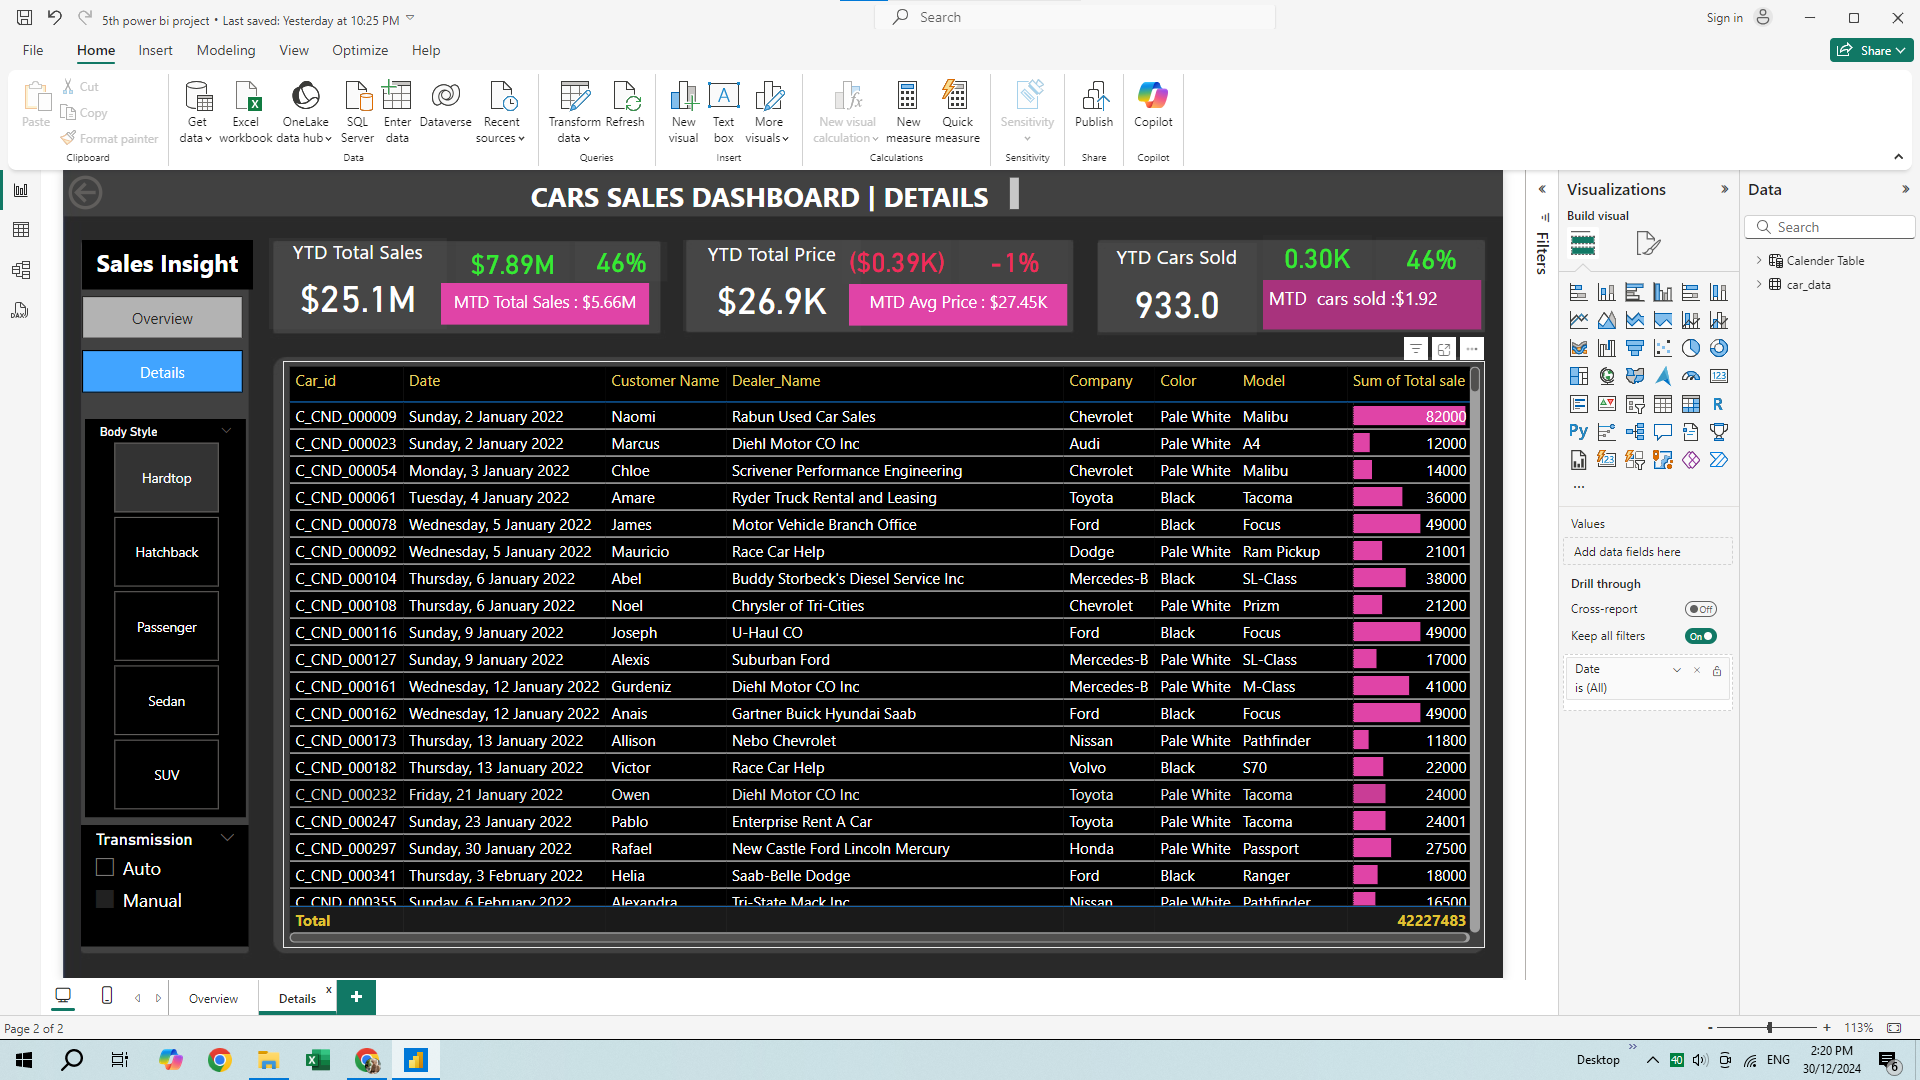

The dashboard page shown, as its layout file describes it:
{"tool":"powerbi","page":{"name":"Details","canvas":[1280,720],"ordinal":1},"visuals":[{"type":"card","title":"YTD Total  Sales","fields":{"Values":["car_data.YTD Total Sales"]},"box":[183.1,60.5,157.9,80.6],"z":0},{"type":"card","fields":{"Values":["car_data.Sales Diffrence"]},"box":[349.4,63.8,100.8,38.6],"z":1000},{"type":"card","fields":{"Values":["car_data.YOY Sales Growth"]},"box":[455.2,63.8,82.3,35.3],"z":2000},{"type":"card","fields":{"Values":["car_data.MTD KPI"]},"box":[336,100.8,184.8,37],"z":3000},{"type":"card","title":"YTD Total  Price","fields":{"Values":["car_data.YTD Avg Price"]},"box":[551,62.2,157.9,80.6],"z":4000},{"type":"card","fields":{"Values":["car_data.Avg Price Diff"]},"box":[692.1,62.2,97.4,38.6],"z":5000},{"type":"card","fields":{"Values":["car_data.YOY Avg Price Growth"]},"box":[796.2,62.2,97.4,38.6],"z":6000},{"type":"card","fields":{"Values":["car_data.MTD Avg Price KPI"]},"box":[698.7,101.6,194.4,36.8],"z":7000},{"type":"card","title":"YTD Cars Sold","fields":{"Values":["car_data.YTD Cars Sold"]},"box":[919.3,64.8,141.8,82.3],"z":8000},{"type":"card","fields":{"Values":["car_data.Cars sold Diff"]},"box":[1067,58.1,96.8,40.5],"z":9000},{"type":"card","fields":{"Values":["car_data.YOY Sales Growth"]},"box":[1167.3,59.9,98.6,38.7],"z":10000},{"type":"textbox","box":[411,1.4,443.6,39.7],"z":11000},{"type":"slicer","fields":{"Values":["car_data.Body Style"]},"box":[19.8,221.1,143.1,354.3],"z":12000},{"type":"slicer","fields":{"Values":["car_data.Transmission"]},"box":[15.6,582.5,148.8,107.7],"z":13000},{"type":"textbox","box":[17,62.4,151.7,43.9],"z":14000},{"type":"textbox","box":[1066.4,98.1,194.4,43.8],"z":15000},{"type":"tableEx","fields":{"Values":["car_data.Car_id","car_data.Date","car_data.Customer Name","car_data.Dealer_Name","car_data.Company","car_data.Color","car_data.Model","car_data.Price ($)"]},"box":[195.6,170.1,1068.7,521.6],"z":16000},{"type":"actionButton","box":[0,0,100,40],"z":17000},{"type":"pageNavigator","box":[17,112,143.1,87.9],"z":18000}]}

Visuals, with their boxes on the page's 1280x720 design canvas (x1, y1, x2, y2). These are canvas units, not pixel positions in the 1920x1080 screenshot, which may show the page scaled, cropped or inside an application window:
"YTD Total  Sales" card: region(183, 60, 341, 141)
card - car_data.Sales Diffrence: region(349, 64, 450, 102)
card - car_data.YOY Sales Growth: region(455, 64, 538, 99)
card - car_data.MTD KPI: region(336, 101, 521, 138)
"YTD Total  Price" card: region(551, 62, 709, 143)
card - car_data.Avg Price Diff: region(692, 62, 790, 101)
card - car_data.YOY Avg Price Growth: region(796, 62, 894, 101)
card - car_data.MTD Avg Price KPI: region(699, 102, 893, 138)
"YTD Cars Sold" card: region(919, 65, 1061, 147)
card - car_data.Cars sold Diff: region(1067, 58, 1164, 99)
card - car_data.YOY Sales Growth: region(1167, 60, 1266, 99)
textbox: region(411, 1, 855, 41)
slicer - car_data.Body Style: region(20, 221, 163, 575)
slicer - car_data.Transmission: region(16, 582, 164, 690)
textbox: region(17, 62, 169, 106)
textbox: region(1066, 98, 1261, 142)
tableEx - car_data.Car_id x car_data.Date: region(196, 170, 1264, 692)
actionButton: region(0, 0, 100, 40)
pageNavigator: region(17, 112, 160, 200)
